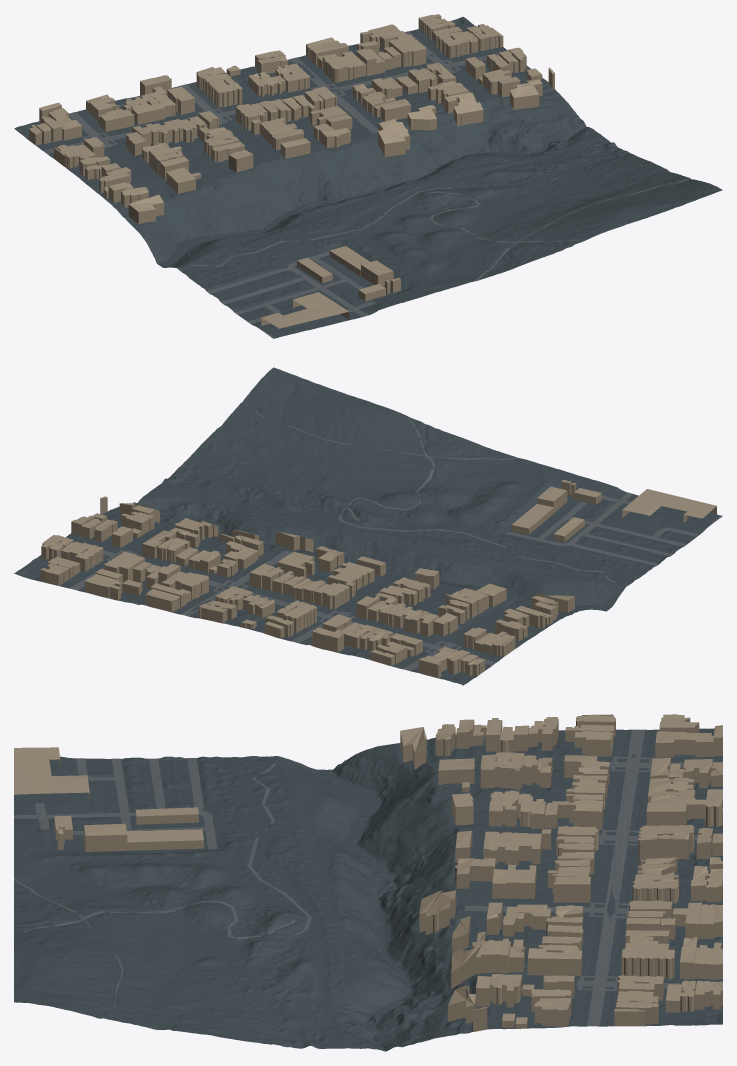
Rendered from epsg26910-1421-10891.lod0.glb.
3 renders of one model, top to bottom at view 1: azimuth 30°, elevation 25°; view 2: azimuth 150°, elevation 25°; view 3: azimuth 270°, elevation 25°, orthographic. The views are drawn at different scales.
Visible parts, largest first — view 1: epsg26910-1421-10891-lod0; view 2: epsg26910-1421-10891-lod0; view 3: epsg26910-1421-10891-lod0.
Boxes of the visible parts, x1,y1,x2,y2 form: epsg26910-1421-10891-lod0: (14, 14, 722, 338); epsg26910-1421-10891-lod0: (14, 367, 722, 685); epsg26910-1421-10891-lod0: (14, 714, 722, 1051).
Bounding box in the file's own units: 384 × 40.14 × 384.
